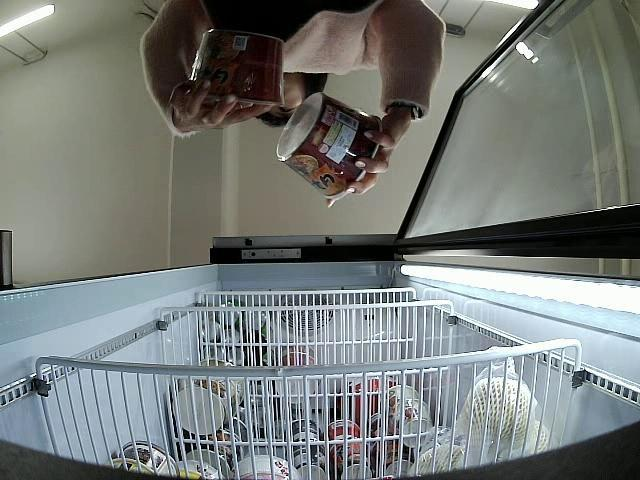05_nuguri_L: (276, 95, 382, 198), (192, 31, 290, 108)
